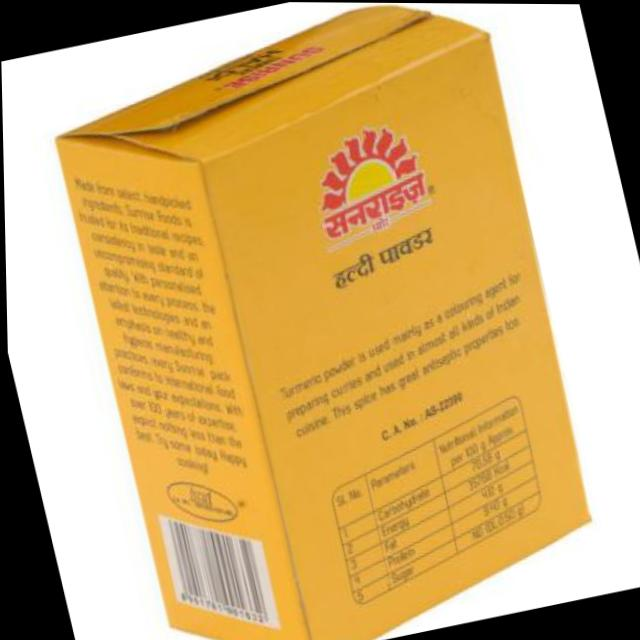box: (3, 0, 640, 640)
